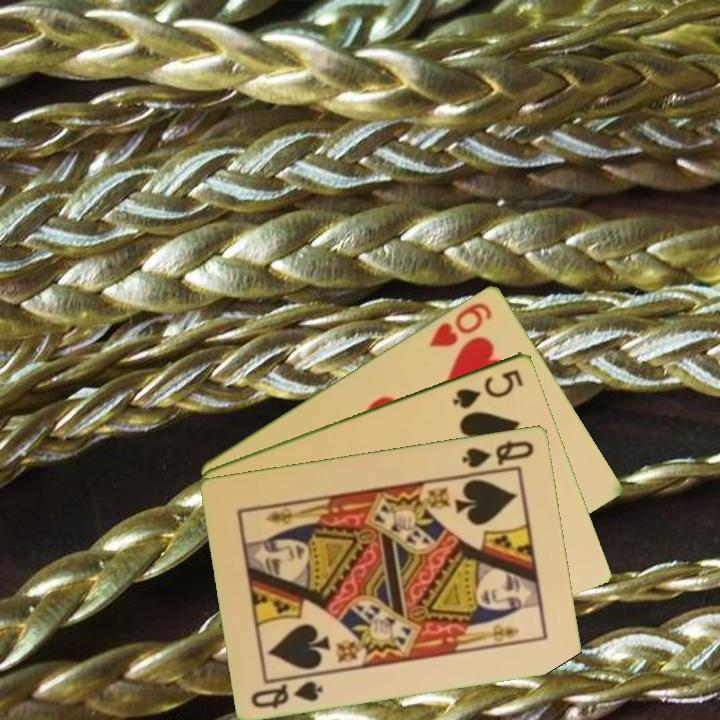5s: (449, 365, 527, 411)
6h: (425, 298, 495, 350)
Qs: (247, 671, 326, 712), (459, 436, 537, 471)
